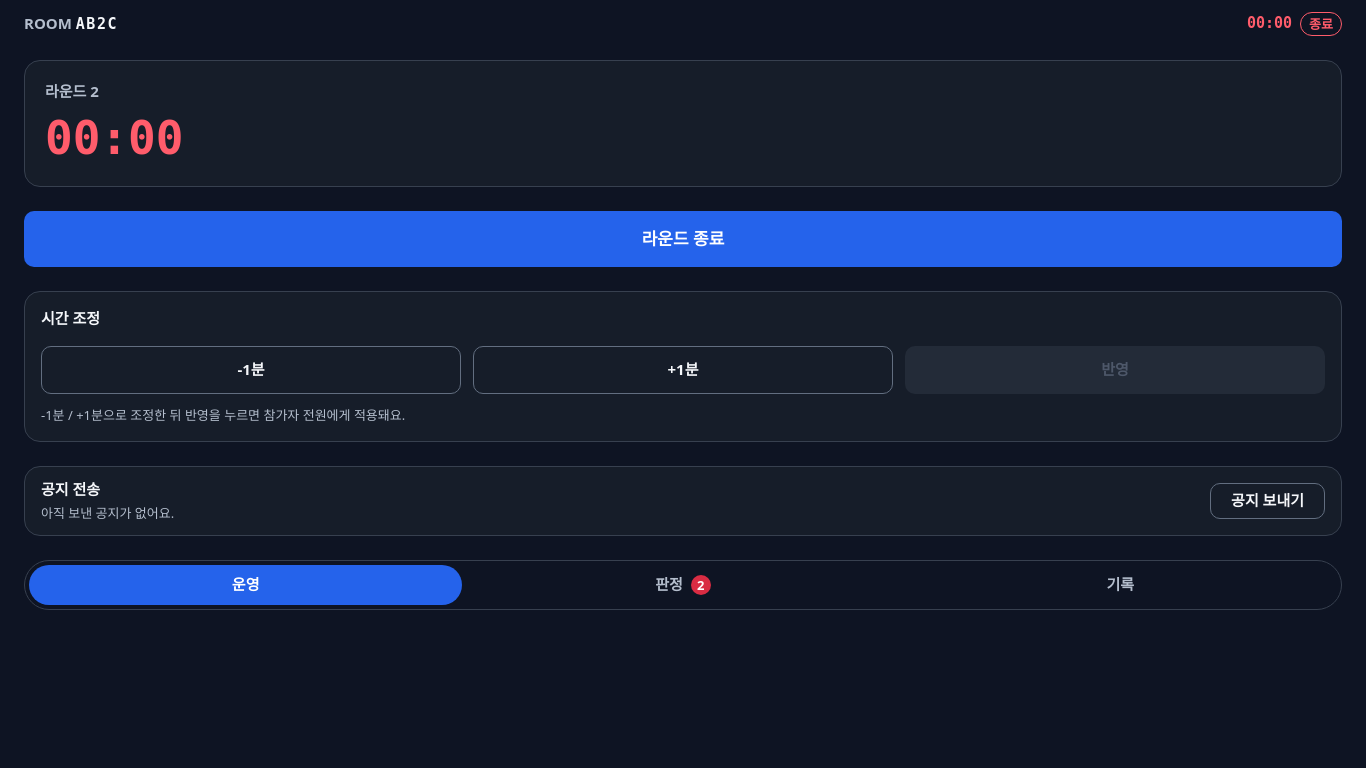
Test: RoundOpsPage › 라운드 종료 › 다이얼로그가 열린 뒤 대기가 사라져도 건수는 열림 시점 값으로 고정된다
Click the button "라운드 종료" at (683, 239), box x1=24 y1=211 x2=1342 y2=267
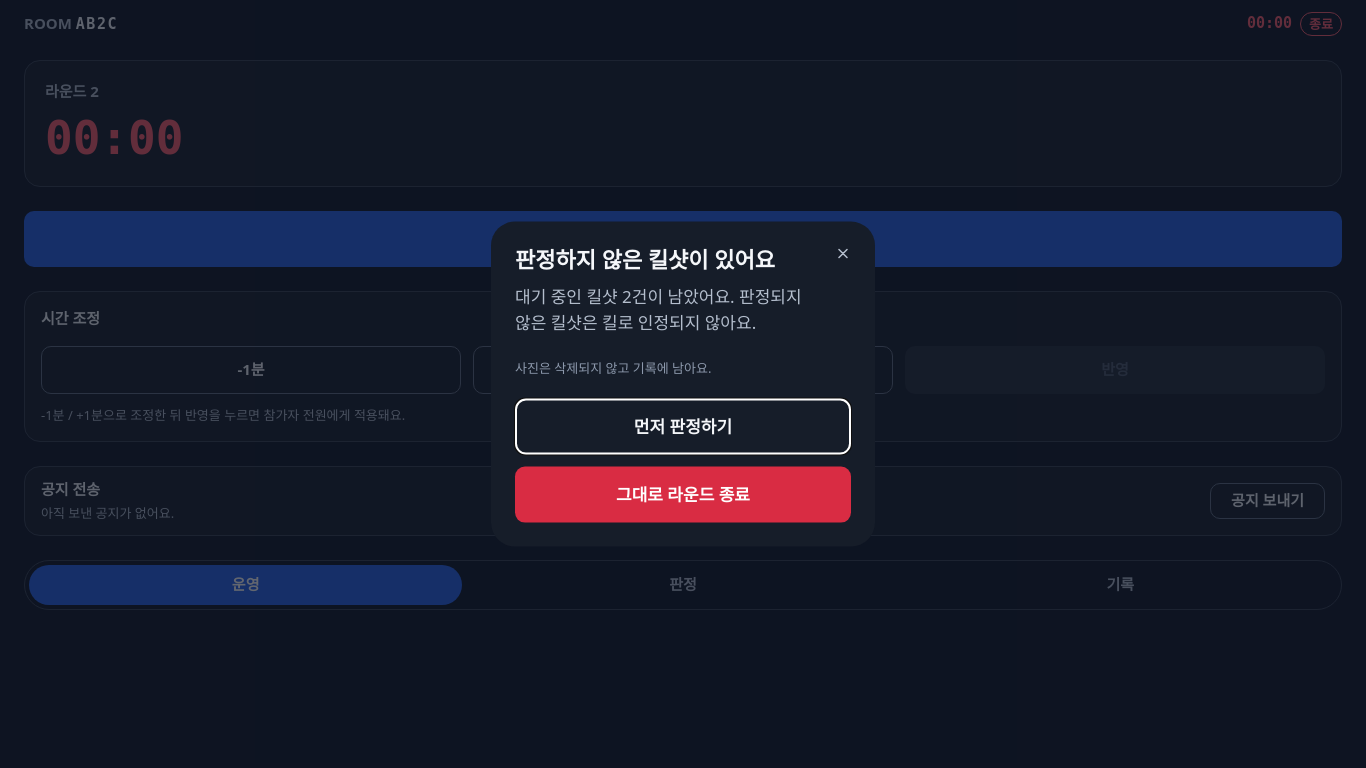
Result: the text "킬샷 2건이 남았어요" is shown at x1=515 y1=285 x2=802 y2=333
